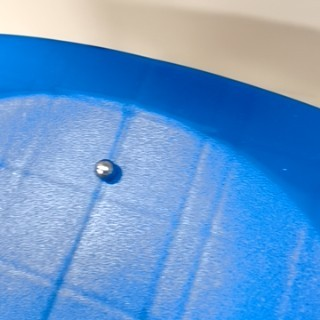ironball: (80, 153, 128, 190)
